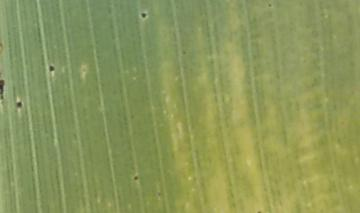tarspot: (1, 78, 6, 101), (13, 100, 24, 110), (46, 64, 56, 73), (131, 174, 140, 183), (139, 12, 148, 20), (179, 49, 188, 57), (266, 1, 273, 9), (254, 210, 262, 213)
